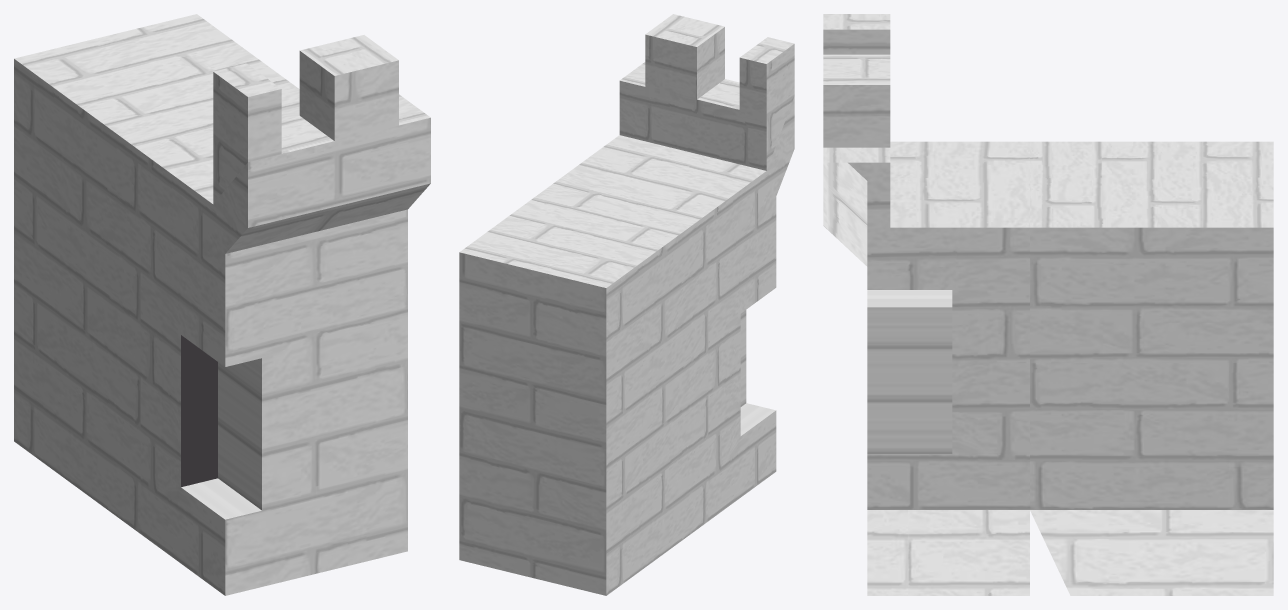
File: castle_type_x.gltf
3 renders of one model, left to right at view 1: azimuth 30°, elevation 25°; view 2: azimuth 150°, elevation 25°; view 3: azimuth 270°, elevation 25°, orthographic. The views are drawn at different scales.
Visible parts, largest first — view 1: Type_X; view 2: Type_X; view 3: Type_X.
Part boxes in pixels (x1,y1,x2,y2): Type_X: (14, 14, 430, 595); Type_X: (459, 14, 794, 595); Type_X: (823, 14, 1273, 595).
Bounding box in the file's own units: 0.5 × 1.35 × 1.11.
2 materials, 1 textured.
